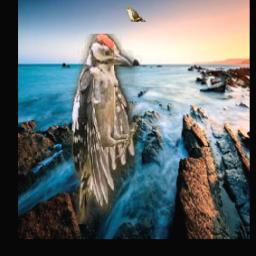Cuckoo: (127, 6, 147, 22)
Woodpecker: (71, 34, 142, 224)
